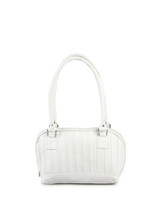bag: (32, 47, 134, 190)
